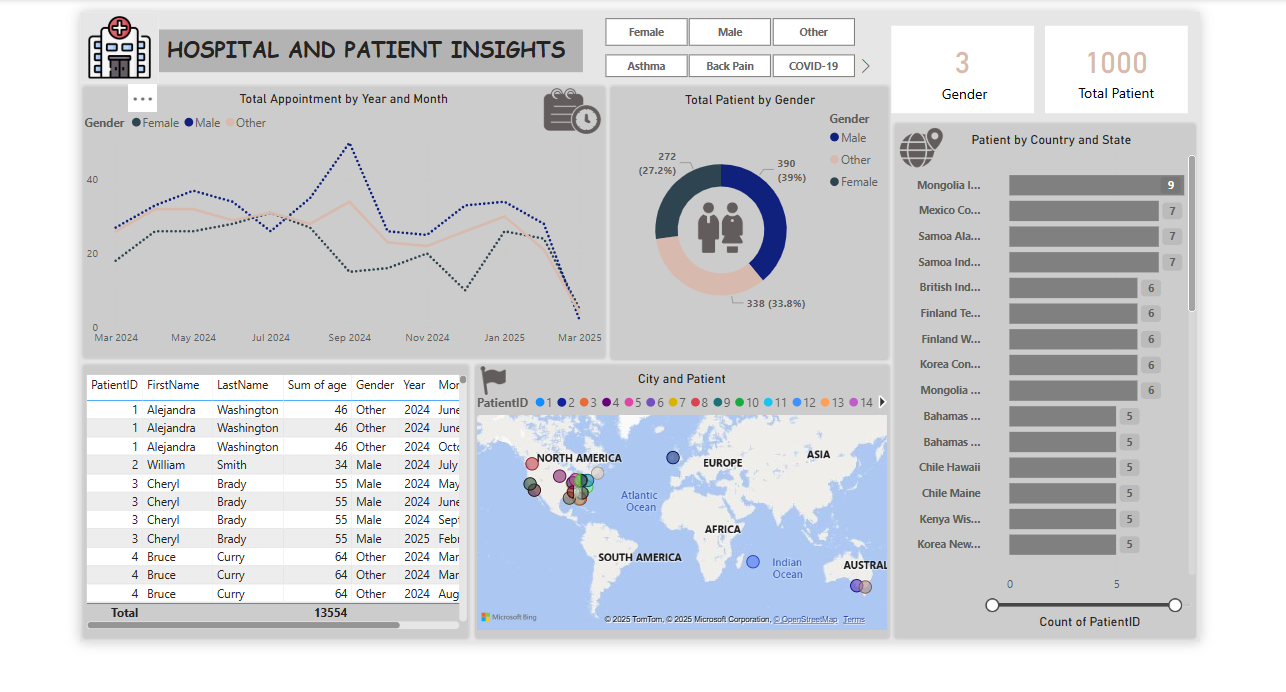

What the dashboard file says about the page in this screenshot:
{"tool":"powerbi","page":{"name":"Drill through","canvas":[1280,720],"ordinal":2},"visuals":[{"type":"shape","box":[0,81.1,603.7,317.7],"z":0},{"type":"shape","box":[0,400.6,447.9,319.4],"z":1000},{"type":"shape","box":[927.6,124.9,351.3,595.5],"z":2000},{"type":"shape","box":[447.9,400.6,480,319.4],"z":3000},{"type":"shape","box":[602.8,81.3,325,319.4],"z":4000},{"type":"lineChart","title":"Total Appointment by Year and Month ","fields":{"Series":["patients.Gender"],"Y":["appointments.AppointmentID"],"Category":["appointments.AppointmentDate.Variation.Date Hierarchy.Year","appointments.AppointmentDate.Variation.Date Hierarchy.Month"]},"box":[0,90.7,602.8,300.5],"z":5000},{"type":"tableEx","fields":{"Values":["patients.PatientID","patients.FirstName","patients.LastName","patients.age","patients.Gender","appointments.AppointmentDate.Variation.Date Hierarchy.Year","appointments.AppointmentDate.Variation.Date Hierarchy.Month","appointments.AppointmentDate.Variation.Date Hierarchy.Day"]},"box":[1.9,410.1,446,300.5],"z":6000},{"type":"clusteredBarChart","title":"Patient by Country and State","fields":{"Category":["patients.Country Hierarchy.Country","patients.Country Hierarchy.State"],"Y":["appointments.PatientID"]},"box":[940,137.2,340.3,572.2],"z":7000},{"type":"donutChart","title":"Total Patient by Gender","fields":{"Category":["patients.Gender"],"Series":["patients.Gender"],"Y":["appointments.PatientID"]},"box":[603.7,90.8,323.2,299.8],"z":8000},{"type":"card","fields":{"Values":["appointments.PatientID"]},"box":[1102.9,15.7,162.9,100],"z":9000},{"type":"card","fields":{"Values":["patients.Gender"]},"box":[927.6,15.1,163.3,100.2],"z":10000},{"type":"slicer","fields":{"Values":["patients.Gender"]},"box":[575,0,334.8,45.3],"z":11000},{"type":"slicer","fields":{"Values":["appointments.Diagnosis"]},"box":[575,41.2,334.8,39.8],"z":12000},{"type":"textbox","box":[90.5,20.2,484.5,48.8],"z":13000},{"type":"image","box":[687.5,212.7,89.2,67.2],"z":14000},{"type":"image","box":[521.4,65.9,82.3,94.7],"z":15000},{"type":"image","box":[927.6,122.1,68.6,67.2],"z":16000},{"type":"image","box":[839.3,409.5,70.3,42.2],"z":17000},{"type":"image","box":[0,0,90.5,81],"z":18000},{"type":"columnChart","fields":{"Y":["patients.age"],"Category":["patients.City"]},"box":[448.6,409.5,478.3,300.1],"z":19000},{"type":"actionButton","box":[513.3,155,100,58.3],"z":20000},{"type":"textbox","box":[490.8,209.4,437.6,445.5],"z":21000}]}

Visuals, with their boxes on the page's 1280x720 design canvas (x1, y1, x2, y2). These are canvas units, not pixel positions in the 1286x692 screenshot, which may show the page scaled, cropped or inside an application window:
shape: 0, 81, 604, 399
shape: 0, 401, 448, 720
shape: 928, 125, 1279, 720
shape: 448, 401, 928, 720
shape: 603, 81, 928, 401
"Total Appointment by Year and Month " lineChart: 0, 91, 603, 391
tableEx - patients.PatientID x patients.FirstName: 2, 410, 448, 711
"Patient by Country and State" clusteredBarChart: 940, 137, 1280, 709
"Total Patient by Gender" donutChart: 604, 91, 927, 391
card - appointments.PatientID: 1103, 16, 1266, 116
card - patients.Gender: 928, 15, 1091, 115
slicer - patients.Gender: 575, 0, 910, 45
slicer - appointments.Diagnosis: 575, 41, 910, 81
textbox: 90, 20, 575, 69
image: 688, 213, 777, 280
image: 521, 66, 604, 161
image: 928, 122, 996, 189
image: 839, 410, 910, 452
image: 0, 0, 90, 81
columnChart - patients.age x patients.City: 449, 410, 927, 710
actionButton: 513, 155, 613, 213
textbox: 491, 209, 928, 655
